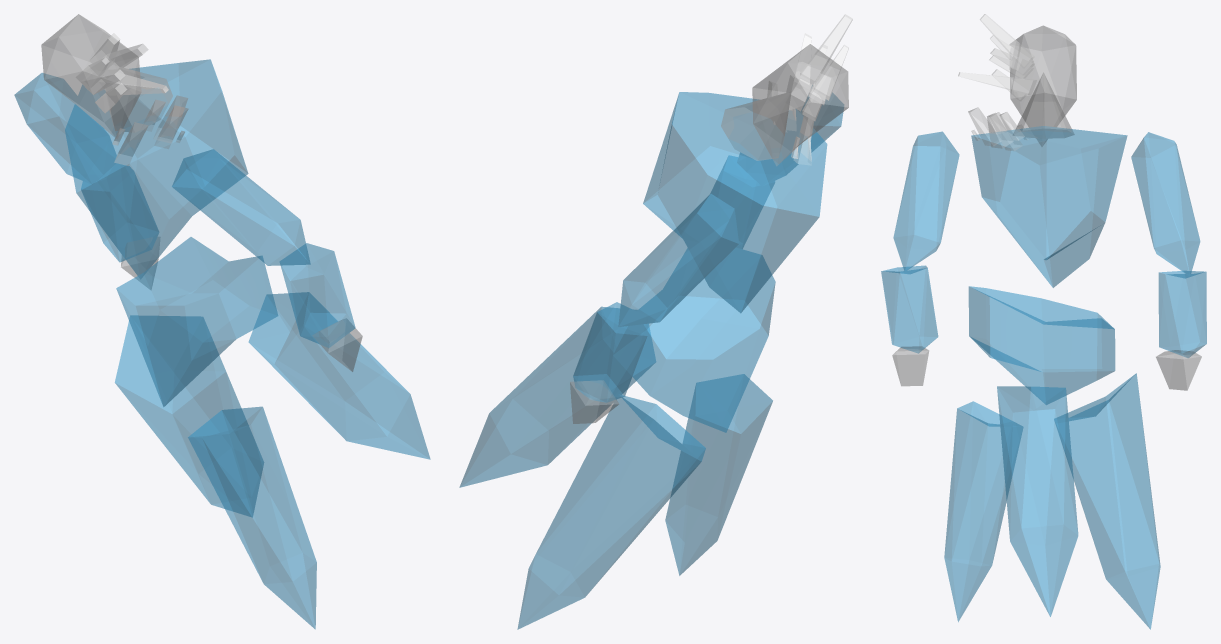
Rendered from ghostChargingLunge20.obj.
The picture shows the model from 3 angles, left to right: view 1: azimuth 30°, elevation 25°; view 2: azimuth 150°, elevation 25°; view 3: azimuth 270°, elevation 25°; orthographic projection. The views are drawn at different scales.
Parts seen in each view (by area): view 1: Cube.001_Cube.006, Icosphere.017, Cube_Cube.006, Icosphere.016, Icosphere.015, Icosphere.005_Icosphere.005, Icosphere.003_Icosphere.006, Icosphere.007_Icosphere.005, Icosphere.006_Icosphere.005, Icosphere.008_Icosphere.005, Cone_Cone.006, Cube.002_Cube.006 (+4 smaller); view 2: Cube.001_Cube.006, Icosphere.017, Cube_Cube.006, Icosphere.016, Icosphere.015, Icosphere.007_Icosphere.005, Icosphere.003_Icosphere.006, Icosphere.008_Icosphere.005, Cone_Cone.006, Icosphere.006_Icosphere.005, Icosphere.005_Icosphere.005, Cube.003_Cube.006 (+3 smaller); view 3: Cube.001_Cube.006, Icosphere.017, Icosphere.016, Cube_Cube.006, Icosphere.015, Icosphere.007_Icosphere.005, Icosphere.005_Icosphere.005, Icosphere.003_Icosphere.006, Icosphere.008_Icosphere.005, Icosphere.006_Icosphere.005, Cone_Cone.006, Cube.003_Cube.006 (+6 smaller).
Boxes of the visible parts, x1,y1,x2,y2 form: Cube.001_Cube.006: [65, 59, 248, 279]; Icosphere.017: [115, 315, 263, 517]; Cube_Cube.006: [116, 237, 278, 406]; Icosphere.016: [248, 292, 430, 459]; Icosphere.015: [188, 406, 316, 629]; Icosphere.005_Icosphere.005: [172, 149, 310, 265]; Icosphere.003_Icosphere.006: [41, 14, 141, 137]; Icosphere.007_Icosphere.005: [14, 73, 116, 184]; Icosphere.006_Icosphere.005: [280, 243, 355, 347]; Icosphere.008_Icosphere.005: [81, 164, 158, 262]; Cone_Cone.006: [110, 68, 172, 131]; Cube.002_Cube.006: [312, 318, 362, 371]; Cube.001_Cube.006: [643, 92, 827, 313]; Icosphere.017: [517, 395, 705, 629]; Cube_Cube.006: [613, 248, 775, 432]; Icosphere.016: [459, 306, 655, 487]; Icosphere.015: [665, 374, 772, 575]; Icosphere.007_Icosphere.005: [618, 194, 738, 326]; Icosphere.003_Icosphere.006: [752, 44, 848, 165]; Icosphere.008_Icosphere.005: [573, 302, 647, 402]; Cone_Cone.006: [721, 92, 791, 160]; Icosphere.006_Icosphere.005: [711, 155, 774, 248]; Icosphere.005_Icosphere.005: [737, 85, 843, 185]; Cube.003_Cube.006: [570, 380, 618, 423]; Cube.001_Cube.006: [971, 126, 1127, 287]; Icosphere.017: [1054, 373, 1160, 629]; Icosphere.016: [997, 386, 1078, 616]; Cube_Cube.006: [968, 286, 1115, 404]; Icosphere.015: [944, 401, 1022, 621]; Icosphere.007_Icosphere.005: [1131, 132, 1200, 275]; Icosphere.005_Icosphere.005: [893, 131, 959, 270]; Icosphere.003_Icosphere.006: [1010, 25, 1076, 146]; Icosphere.008_Icosphere.005: [1158, 271, 1206, 357]; Icosphere.006_Icosphere.005: [881, 265, 938, 353]; Cone_Cone.006: [1013, 72, 1074, 138]; Cube.003_Cube.006: [1156, 350, 1201, 390].
Size of the model in its own units: 29.74 by 45.69 by 25.36.
